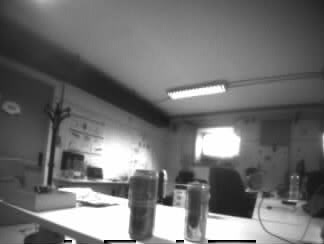Bottle: (289, 172, 299, 201)
Tin can: (130, 170, 154, 237), (185, 182, 205, 241)
